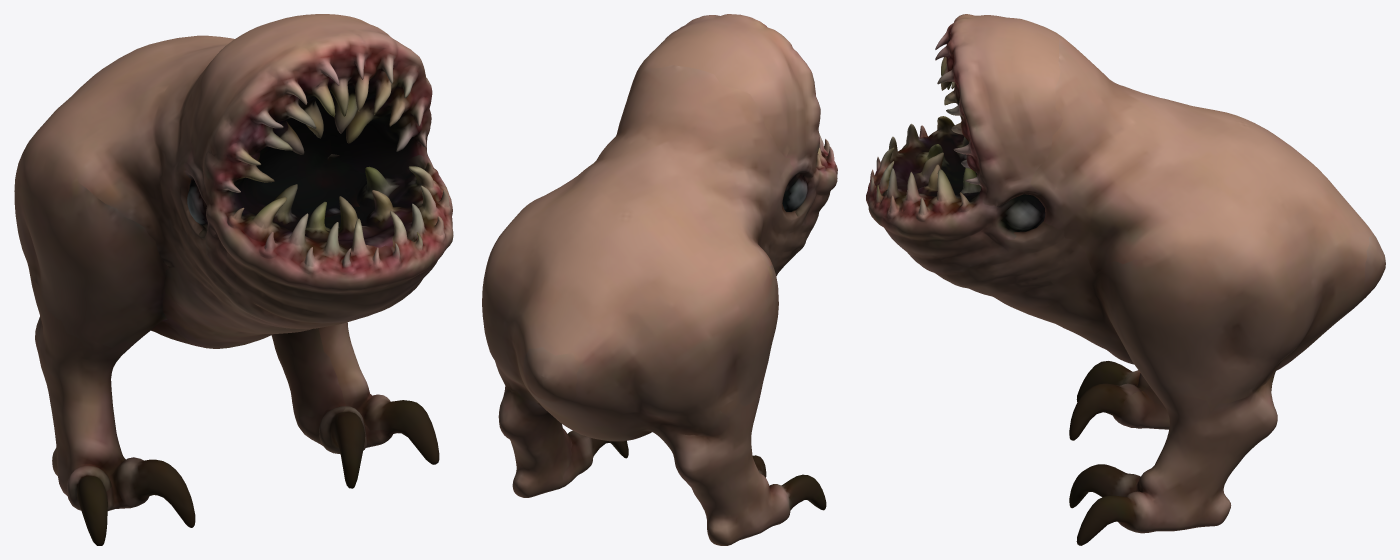
The model's file is MZ4250 - The Wretched.glb.
3 renders of one model, left to right at view 1: azimuth 30°, elevation 25°; view 2: azimuth 150°, elevation 25°; view 3: azimuth 270°, elevation 25°, orthographic. The views are drawn at different scales.
Parts seen in each view (by area): view 1: ORGANIC BASE SPHERE.001; view 2: ORGANIC BASE SPHERE.001; view 3: ORGANIC BASE SPHERE.001.
Part boxes in pixels (x1,y1,x2,y2): ORGANIC BASE SPHERE.001: (14,14,453,545); ORGANIC BASE SPHERE.001: (482,14,837,545); ORGANIC BASE SPHERE.001: (866,14,1385,545).
Bounding box in the file's own units: 37.14 × 52.92 × 55.55.
1 material, 1 textured.
